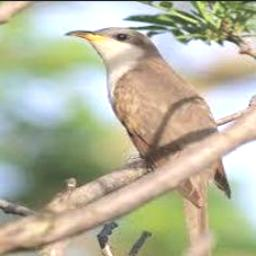Cuckoo: (65, 27, 231, 256)
